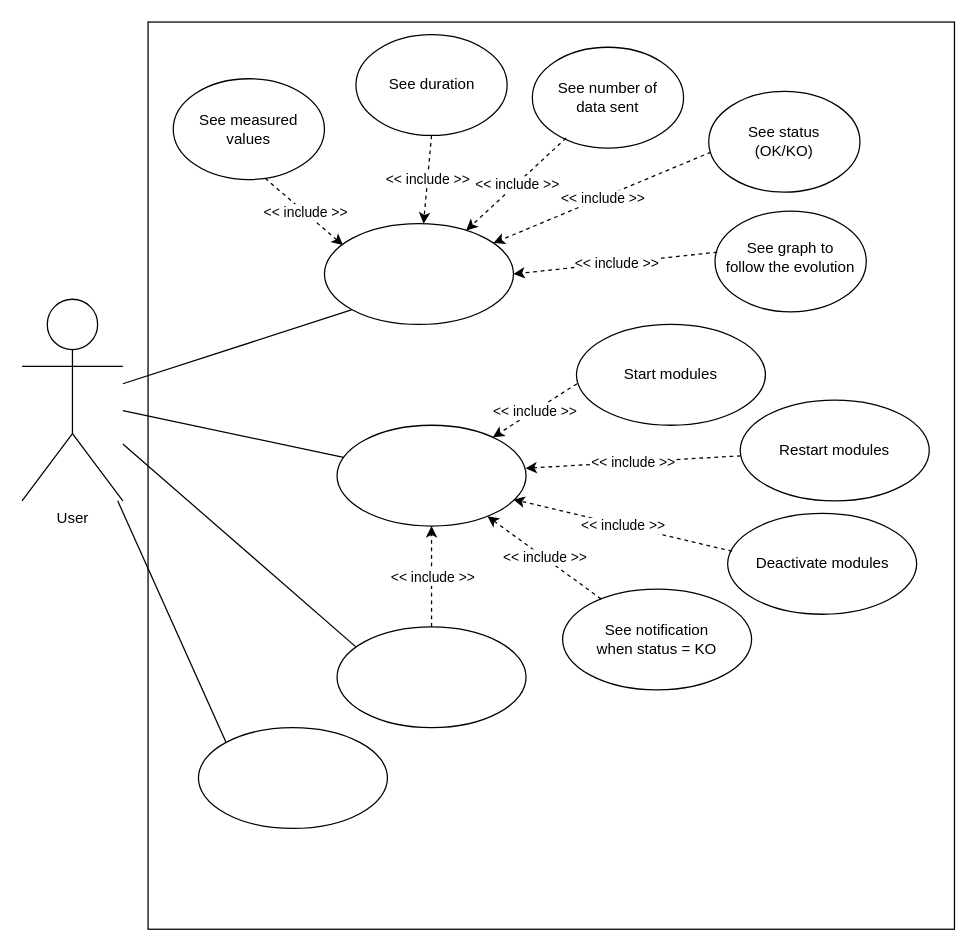
This 977x951 diagram has some shape labels left out. Here are the shapes that lost their labels. From the top down, the centre of each, then its label:
the point at 418,273: See all modules on the dashboard
the point at 431,475: Create modules
the point at 431,677: See logs in details page
the point at 292,777: Delete modules
